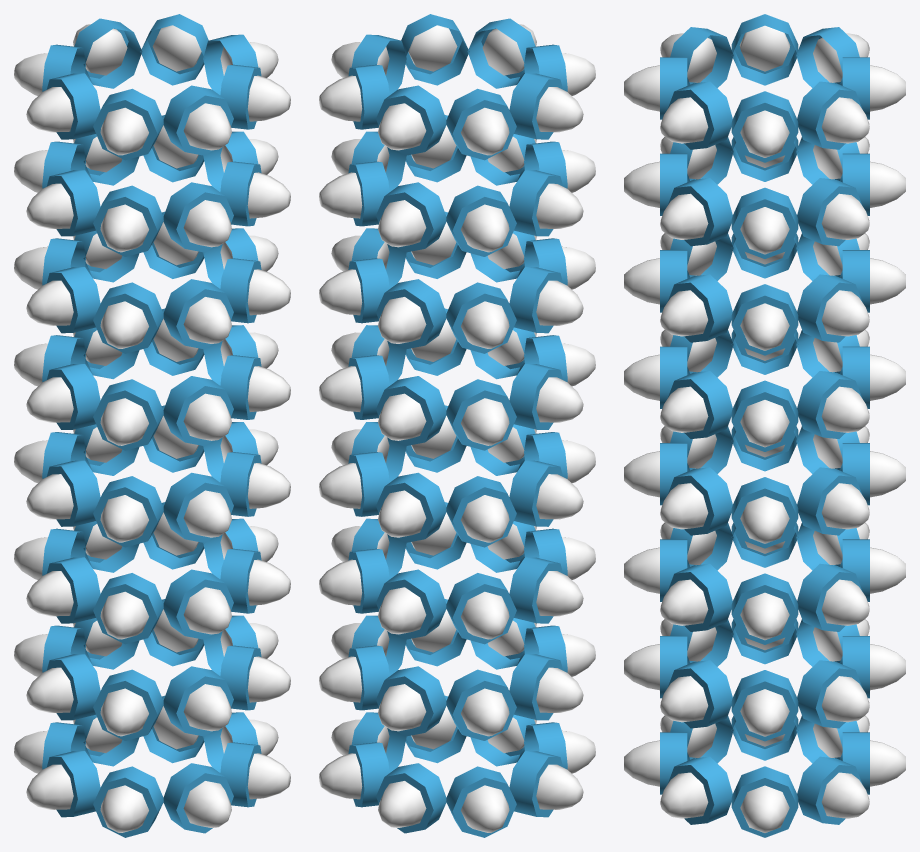
The model's file is Pole_Spike_01.fbx.
3 renders of one model, left to right at view 1: azimuth 30°, elevation 25°; view 2: azimuth 150°, elevation 25°; view 3: azimuth 270°, elevation 25°, orthographic.
Parts seen in each view (by area): view 1: Obstacle_Pole_Spike_01; view 2: Obstacle_Pole_Spike_01; view 3: Obstacle_Pole_Spike_01.
Boxes of the visible parts, x1,y1,x2,y2 form: Obstacle_Pole_Spike_01: (14, 14, 290, 837); Obstacle_Pole_Spike_01: (319, 14, 595, 837); Obstacle_Pole_Spike_01: (624, 14, 905, 837).
Size of the model in its own units: 71.34 by 205 by 71.34.
Materials: 1 (1 with a texture image).
